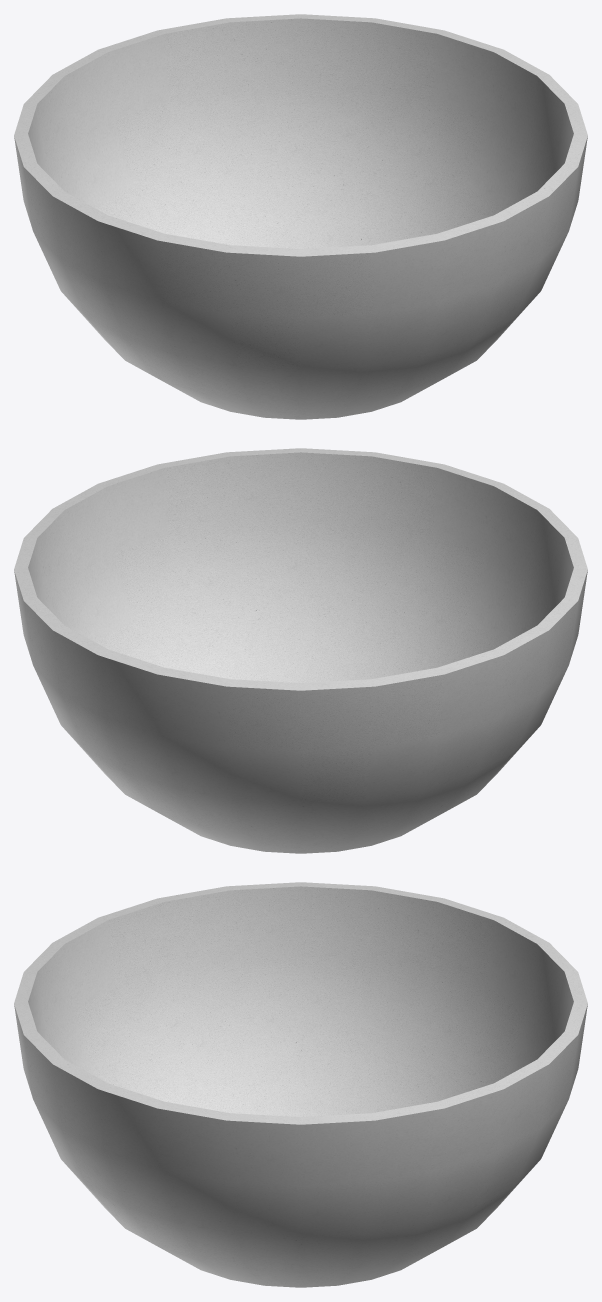
File: SM_研磨碗.fbx
3 renders of one model, top to bottom at view 1: azimuth 30°, elevation 25°; view 2: azimuth 150°, elevation 25°; view 3: azimuth 270°, elevation 25°, orthographic.
Parts seen in each view (by area): view 1: SM_研磨碗; view 2: SM_研磨碗; view 3: SM_研磨碗.
Part boxes in pixels (bbox=[...]): SM_研磨碗: bbox=[14, 14, 587, 419]; SM_研磨碗: bbox=[14, 448, 587, 853]; SM_研磨碗: bbox=[14, 882, 587, 1287].
Size of the model in its own units: 21.03 by 9.15 by 21.03.
1 material, 1 textured.
